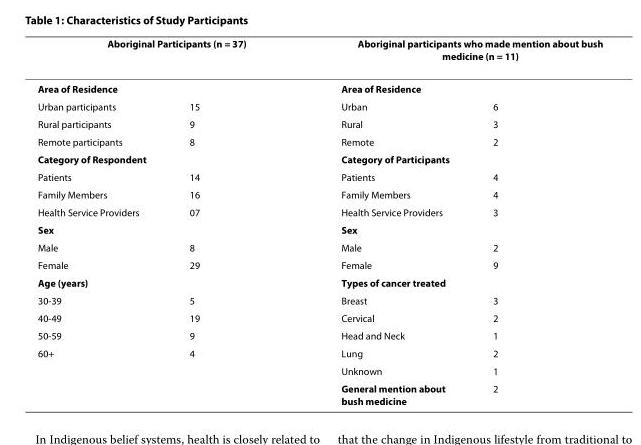table: (36, 36, 602, 406)
table column: (293, 36, 470, 406), (470, 36, 602, 406), (36, 36, 167, 406), (167, 36, 293, 406)
table column header: (36, 36, 602, 97)
table row: (36, 36, 602, 71), (36, 378, 602, 406), (36, 71, 602, 97), (36, 114, 602, 132), (36, 149, 602, 167), (36, 167, 602, 185), (36, 202, 602, 220), (36, 220, 602, 238), (36, 255, 602, 273), (36, 273, 602, 291), (36, 308, 602, 326), (36, 343, 602, 361), (36, 97, 602, 114), (36, 132, 602, 149), (36, 185, 602, 202), (36, 238, 602, 255), (36, 291, 602, 308), (36, 326, 602, 343), (36, 361, 602, 378)
table spanning cell: (293, 36, 602, 71), (36, 36, 293, 71), (36, 343, 167, 406)
